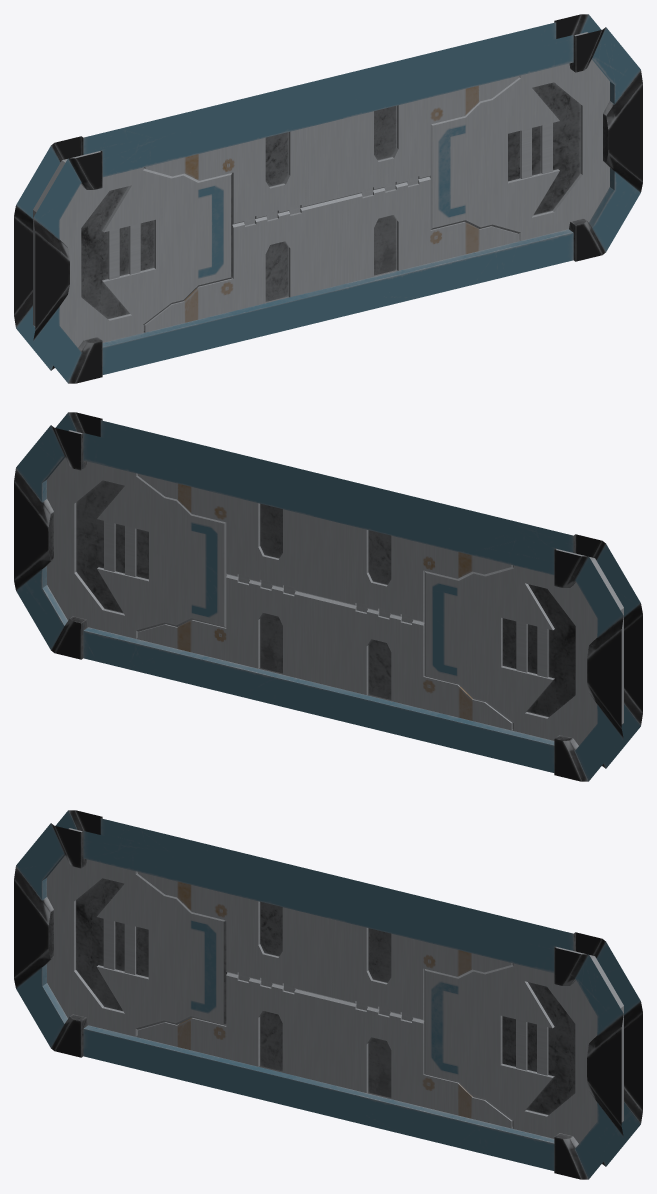
Rendered from boss_board_asset.fbx.
The picture shows the model from 3 angles, top to bottom: view 1: azimuth 30°, elevation 25°; view 2: azimuth 150°, elevation 25°; view 3: azimuth 330°, elevation 25°; orthographic projection.
Parts seen in each view (by area): view 1: door:frame_frame, door:right_door_right_door, door:left_door_left_door, door:bottom_door_bottom_door, door:top_door_top_door; view 2: door:frame_frame, door:right_door_right_door, door:left_door_left_door, door:bottom_door_bottom_door, door:top_door_top_door; view 3: door:frame_frame, door:left_door_left_door, door:right_door_right_door, door:bottom_door_bottom_door, door:top_door_top_door.
Part boxes in pixels (x1,y1,x2,y2): door:frame_frame: (14, 14, 642, 383); door:right_door_right_door: (429, 59, 609, 240); door:left_door_left_door: (59, 167, 232, 347); door:bottom_door_bottom_door: (144, 176, 518, 332); door:top_door_top_door: (144, 76, 518, 224); door:frame_frame: (14, 412, 642, 781); door:right_door_right_door: (47, 457, 227, 638); door:left_door_left_door: (424, 565, 597, 745); door:bottom_door_bottom_door: (138, 574, 512, 730); door:top_door_top_door: (138, 474, 512, 622); door:frame_frame: (14, 810, 642, 1179); door:left_door_left_door: (47, 855, 227, 1036); door:right_door_right_door: (424, 963, 597, 1143); door:bottom_door_bottom_door: (138, 972, 512, 1128); door:top_door_top_door: (138, 872, 512, 1020).
Bounding box in the file's own units: 0.4069 × 0.1443 × 0.0246.
Materials: 1 (1 with a texture image).
